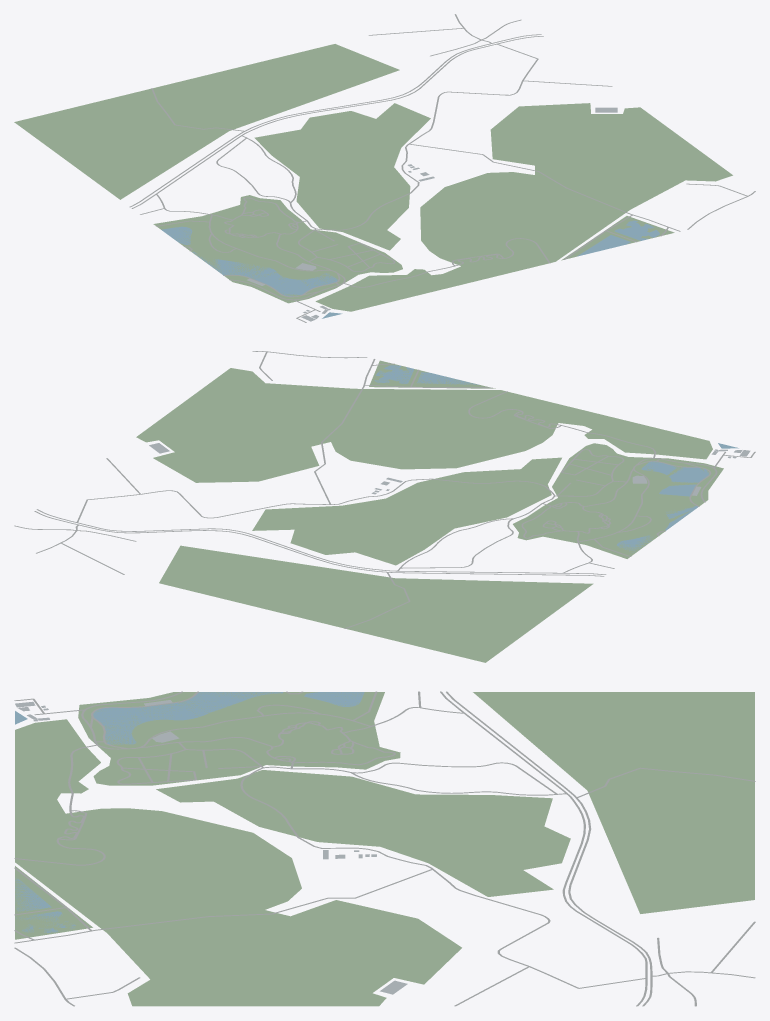
Rendered from -7_10-known-coarse.glb.
3 renders of one model, top to bottom at view 1: azimuth 30°, elevation 25°; view 2: azimuth 150°, elevation 25°; view 3: azimuth 270°, elevation 25°, orthographic. The views are drawn at different scales.
Size of the model in its own units: 1003 by 0.15 by 998.
